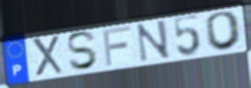5: (172, 12, 203, 58)
F: (101, 24, 133, 67)
N: (135, 18, 173, 64)
O: (205, 9, 244, 52)
S: (65, 30, 100, 72)
X: (30, 34, 65, 79)
